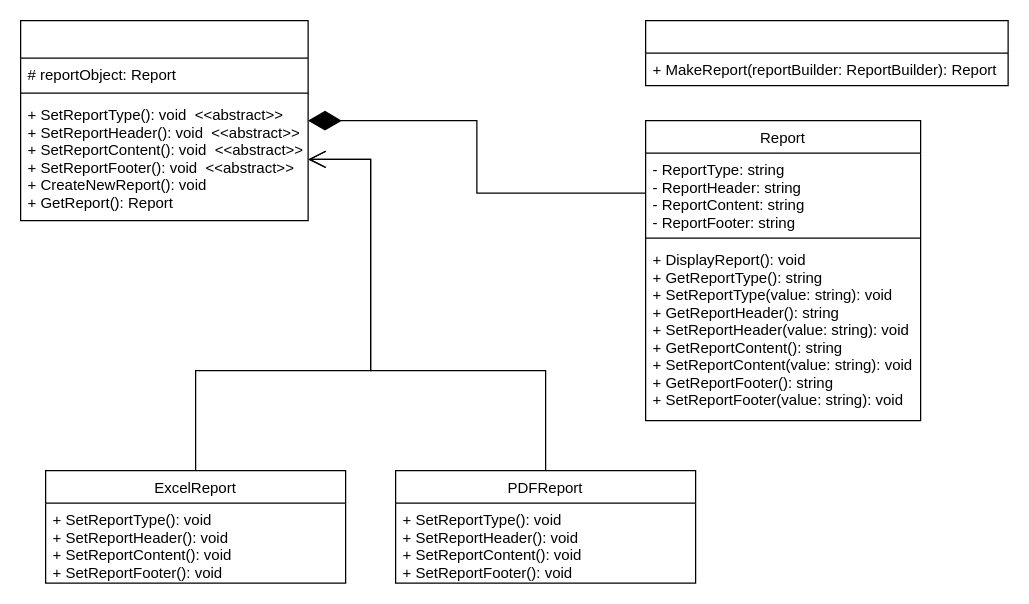
This 1029x604 diagram has some shape labels left out. Each missing label, with the box of its shape:
ReportBuilder: (19, 19, 308, 221)
ReportDirector: (644, 19, 1008, 86)
